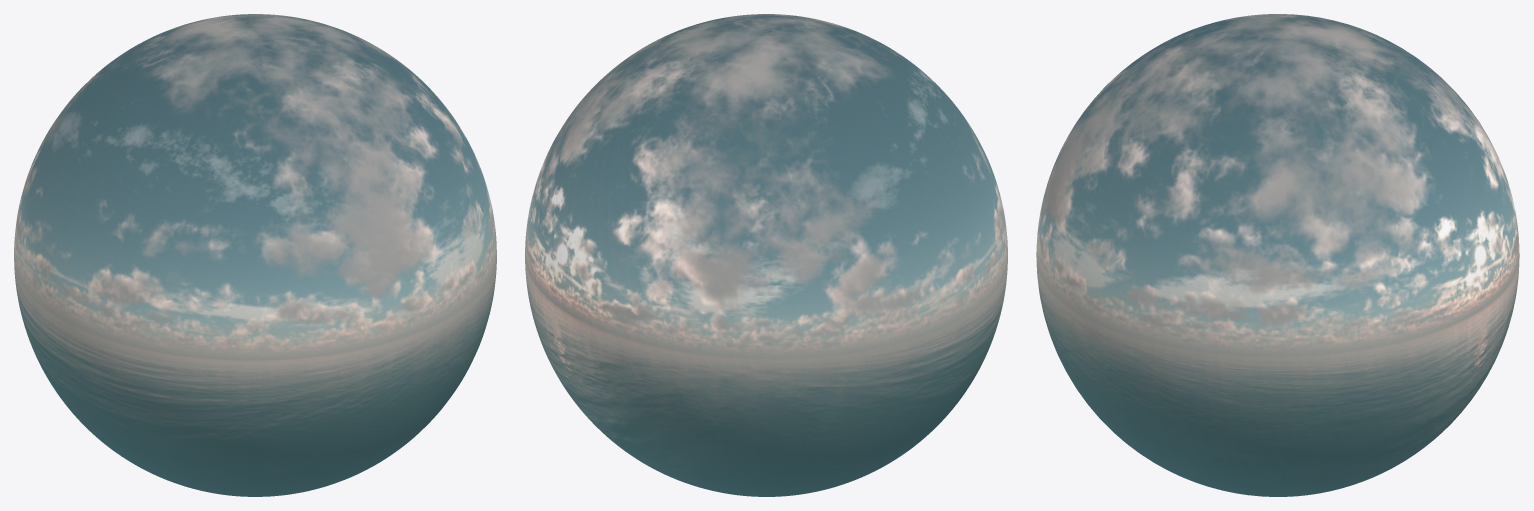
Rendered from BACKGROUND.glb.
3 renders of one model, left to right at view 1: azimuth 30°, elevation 25°; view 2: azimuth 150°, elevation 25°; view 3: azimuth 270°, elevation 25°, orthographic.
Parts seen in each view (by area): view 1: Sphere; view 2: Sphere; view 3: Sphere.
Boxes of the visible parts, left/top/right/bottom form: Sphere: left=14, top=14, right=496, bottom=496; Sphere: left=525, top=14, right=1007, bottom=496; Sphere: left=1036, top=14, right=1519, bottom=496.
Size of the model in its own units: 4.07 by 4.07 by 4.07.
1 material, 1 textured.
